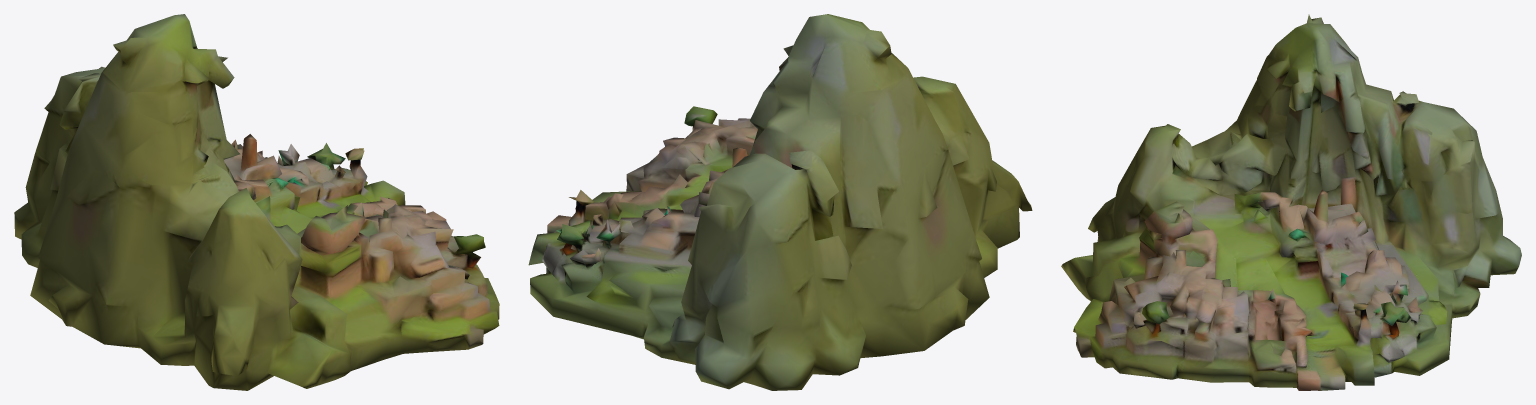
Rendered from machu-picchu.glb.
3 views of the same model, side by side, from view 1: azimuth 30°, elevation 25°; view 2: azimuth 150°, elevation 25°; view 3: azimuth 270°, elevation 25° (orthographic). The views are drawn at different scales.
Parts seen in each view (by area): view 1: tripo_node_093078dc-e1f5-4e35-8d54-2d1c12a3e0a1; view 2: tripo_node_093078dc-e1f5-4e35-8d54-2d1c12a3e0a1; view 3: tripo_node_093078dc-e1f5-4e35-8d54-2d1c12a3e0a1.
Part boxes in pixels (x1,y1,x2,y2): tripo_node_093078dc-e1f5-4e35-8d54-2d1c12a3e0a1: (14,14,499,390); tripo_node_093078dc-e1f5-4e35-8d54-2d1c12a3e0a1: (528,14,1032,390); tripo_node_093078dc-e1f5-4e35-8d54-2d1c12a3e0a1: (1061,14,1521,390).
Bounding box in the file's own units: 0.8725 × 0.6024 × 1.
1 material, 1 textured.
